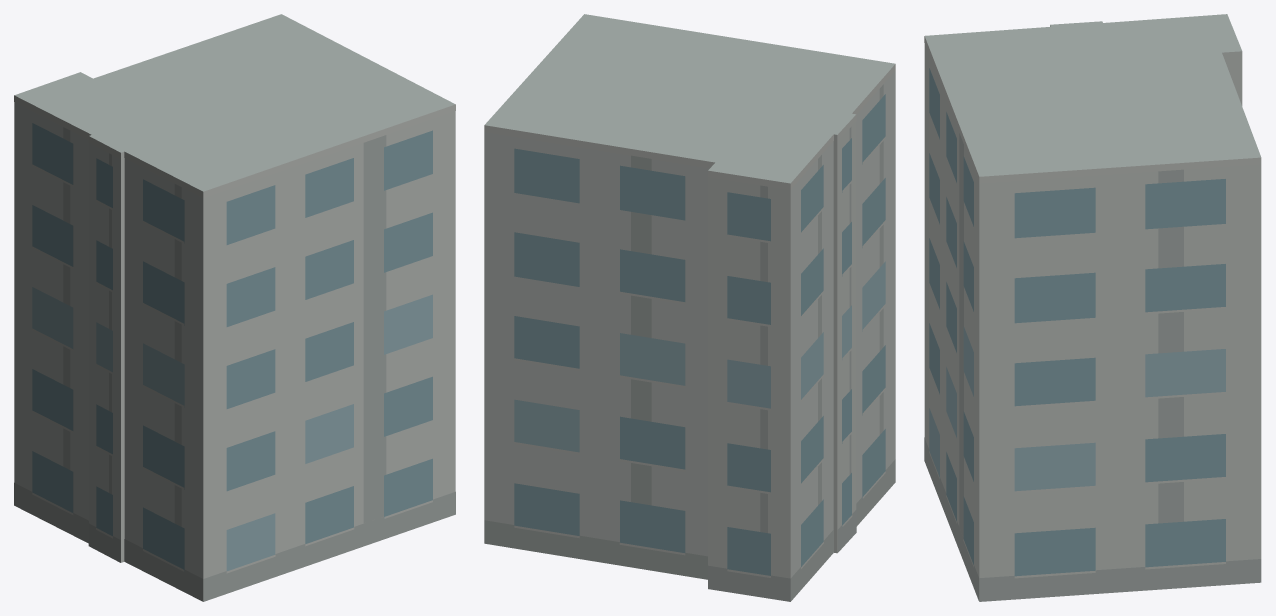
The model's file is survey-upis-32956006.glb.
3 renders of one model, left to right at view 1: azimuth 30°, elevation 25°; view 2: azimuth 150°, elevation 25°; view 3: azimuth 270°, elevation 25°, orthographic. The views are drawn at different scales.
Visible parts, largest first — view 1: survey-upis-32956006.tmp; view 2: survey-upis-32956006.tmp; view 3: survey-upis-32956006.tmp.
Part boxes in pixels (x1,y1,x2,y2): survey-upis-32956006.tmp: [14, 14, 455, 601]; survey-upis-32956006.tmp: [484, 14, 895, 601]; survey-upis-32956006.tmp: [924, 14, 1261, 601].
Bounding box in the file's own units: 12.53 × 15.25 × 10.96.
